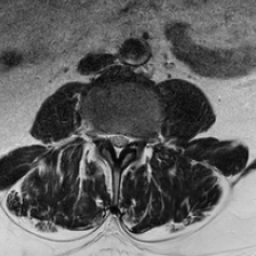CCS_normal: (113, 124, 121, 164)
LFS_severe_stenosis: (130, 124, 140, 149)
LLS_normal: (121, 126, 130, 153)
RFS_normal: (96, 121, 106, 146)
RLS_normal: (106, 126, 113, 152)
